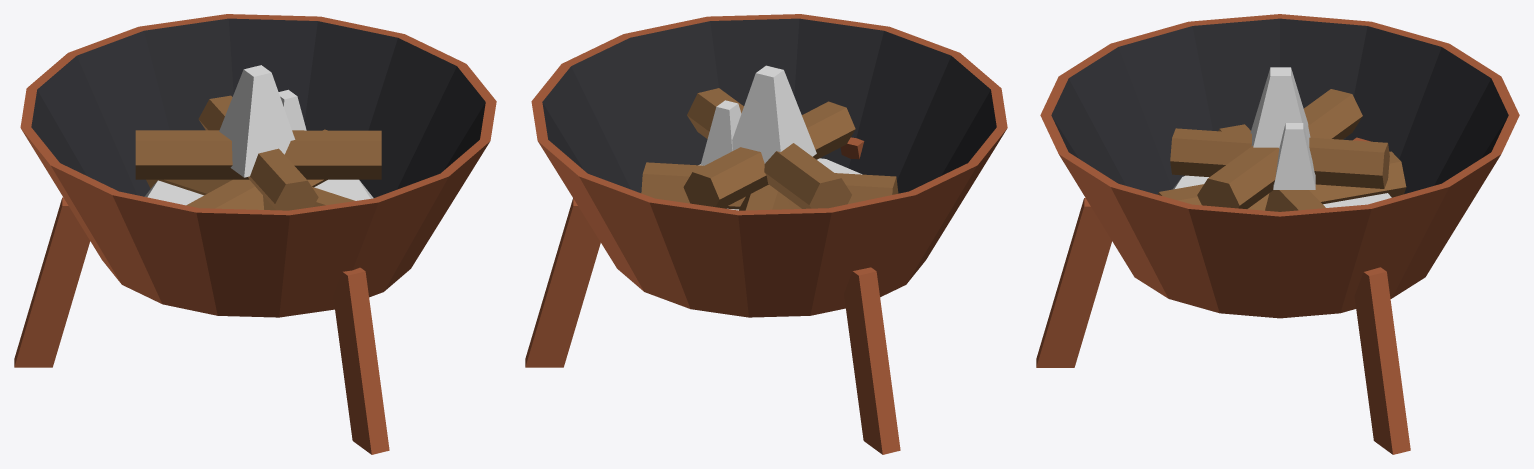
File: FN_Pit_Fire.fbx
3 renders of one model, left to right at view 1: azimuth 30°, elevation 25°; view 2: azimuth 150°, elevation 25°; view 3: azimuth 270°, elevation 25°, orthographic.
Parts seen in each view (by area): view 1: FN_Pit_Fire; view 2: FN_Pit_Fire; view 3: FN_Pit_Fire.
Boxes of the visible parts, x1,y1,x2,y2 form: FN_Pit_Fire: (14, 14, 496, 454); FN_Pit_Fire: (525, 14, 1007, 454); FN_Pit_Fire: (1036, 14, 1519, 454).
Size of the model in its own units: 70 by 47 by 70.6.
2 materials, 1 textured.
